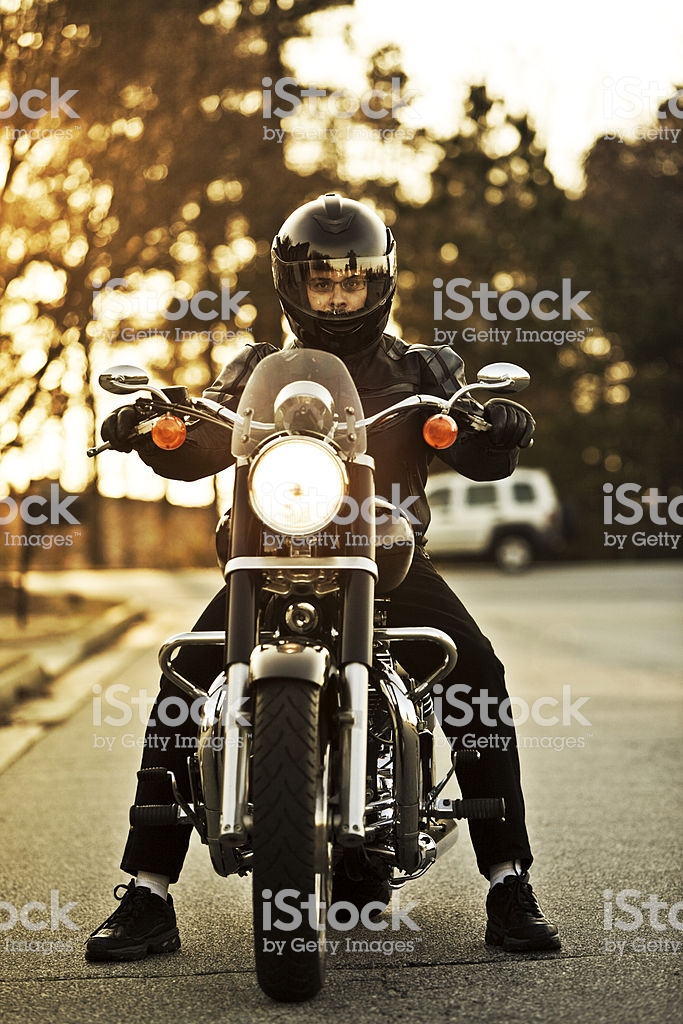helmet: (267, 203, 409, 356)
